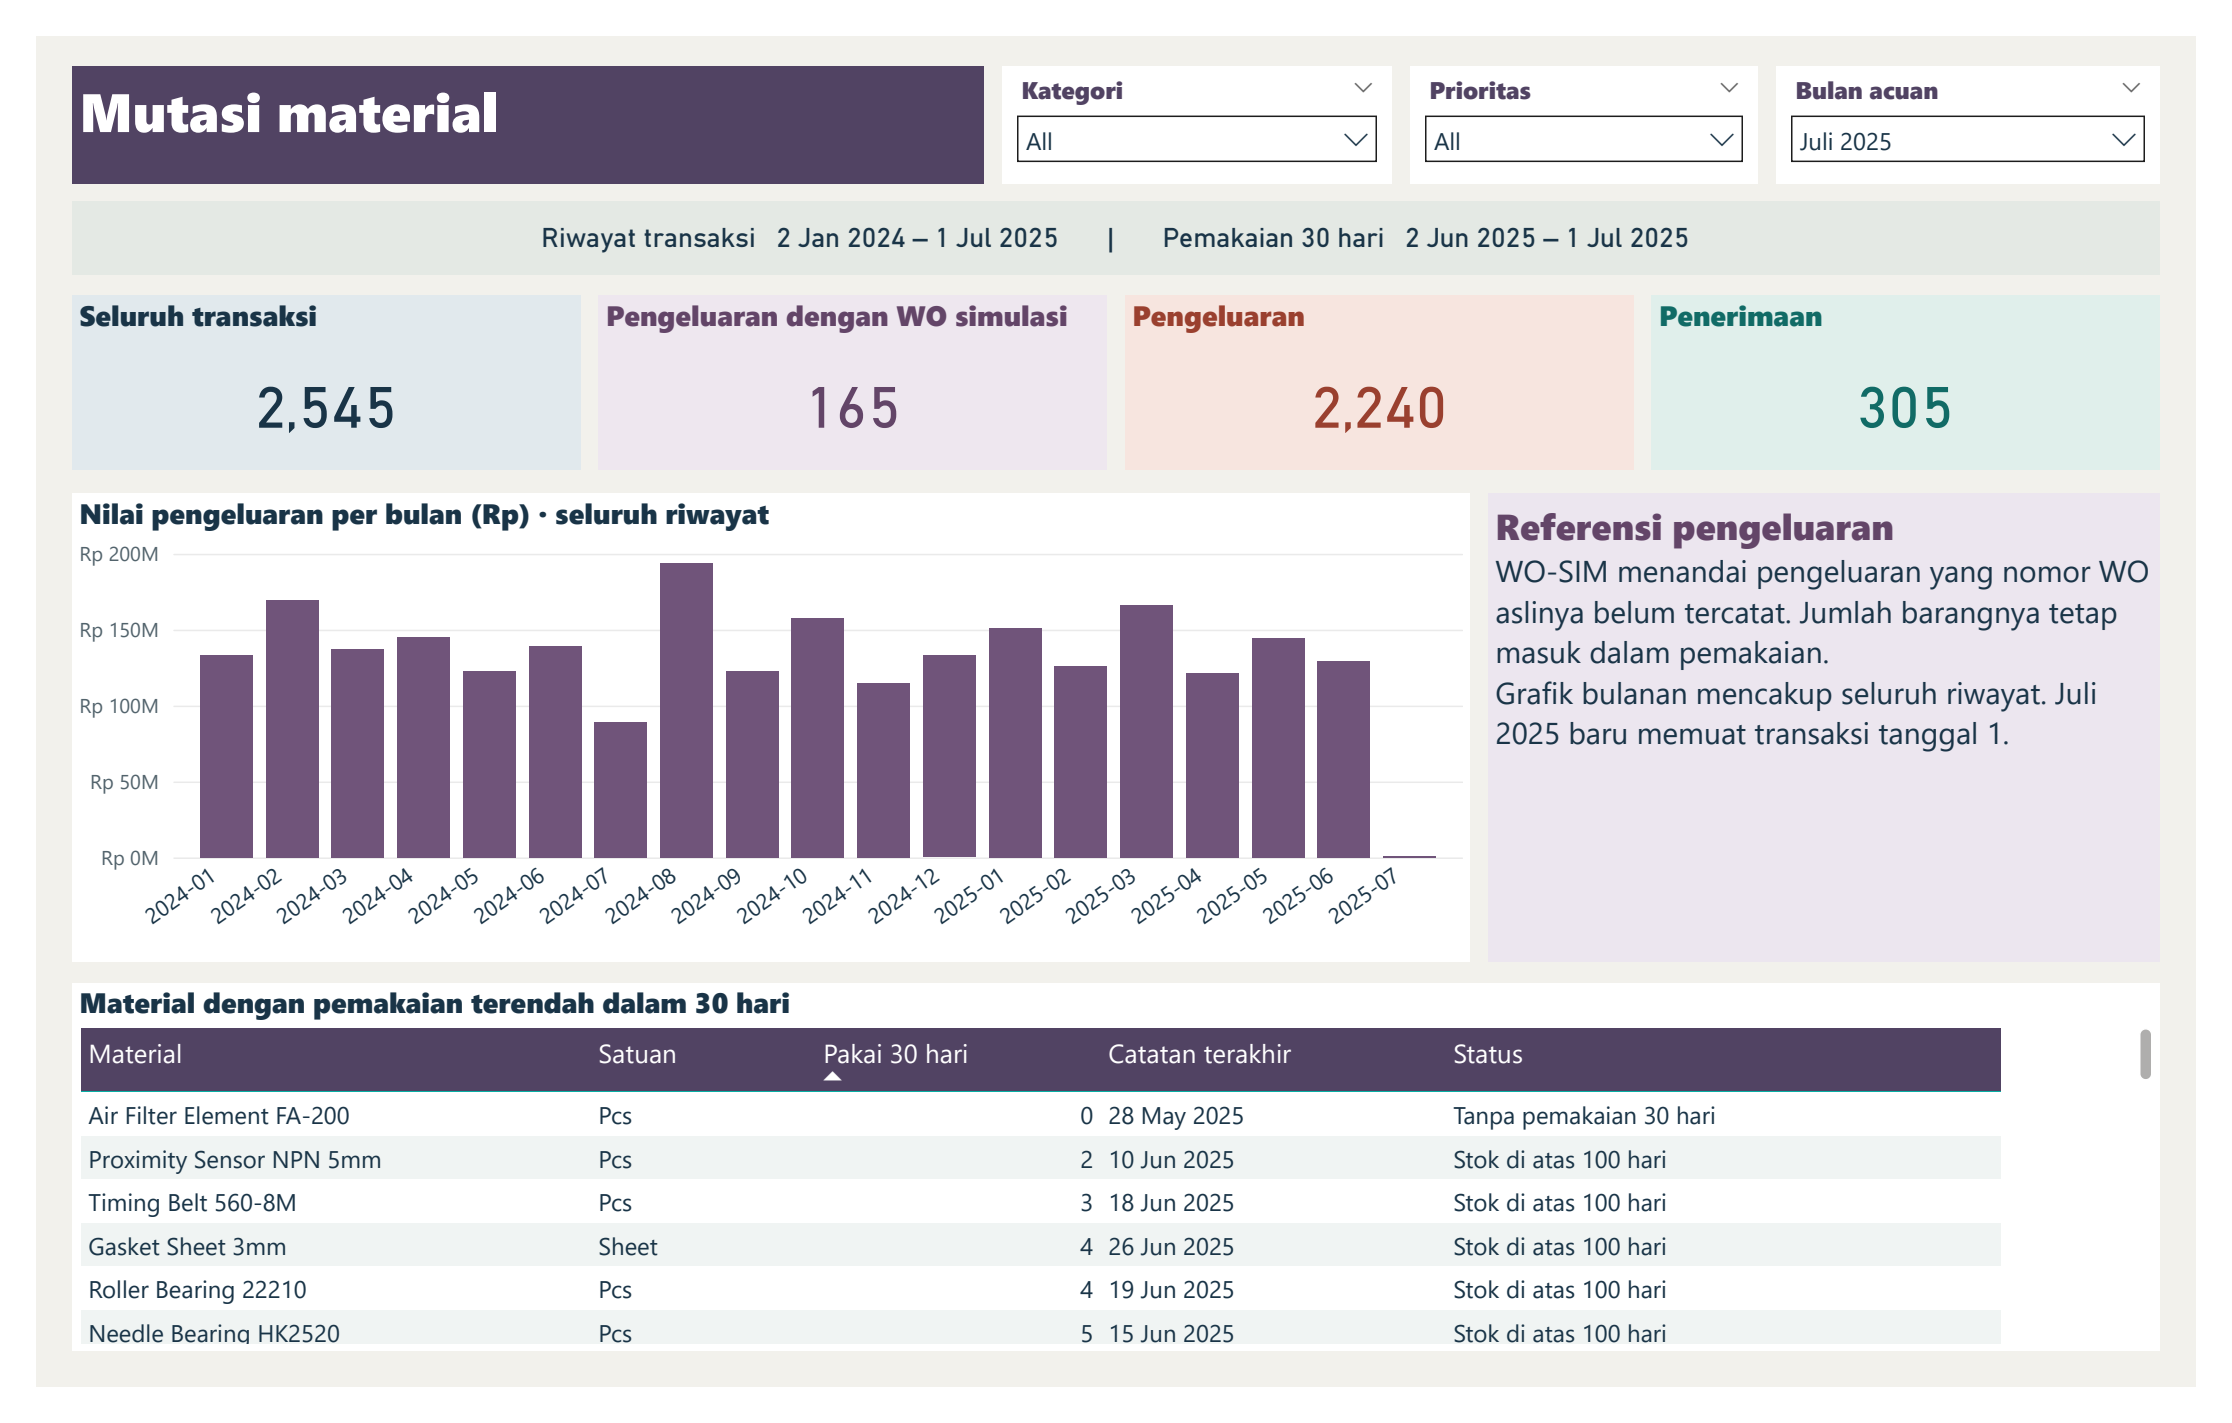

What the dashboard file says about the page in this screenshot:
{"tool":"powerbi","page":{"name":"Mutasi material","canvas":[1440,900],"ordinal":2},"visuals":[{"type":"textbox","box":[24,20,608,78],"z":15},{"type":"slicer","fields":{"Values":["Item.Category"]},"box":[644,20,260,78],"z":17},{"type":"slicer","fields":{"Values":["Item.Priority"]},"box":[916,20,232,78],"z":18},{"type":"slicer","fields":{"Values":["ReportingDate.Bulan"]},"box":[1160,20,256,78],"z":19},{"type":"card","fields":{"Values":["Item.Period Label"]},"box":[24,110,1392,49],"z":20},{"type":"card","title":"Seluruh transaksi","fields":{"Values":["Item.Transaction Rows"]},"box":[24,173,339,116],"z":33},{"type":"card","title":"Pengeluaran dengan WO simulasi","fields":{"Values":["Item.Referensi simulasi"]},"box":[375,173,339,116],"z":34},{"type":"card","title":"Pengeluaran","fields":{"Values":["Item.Issue Rows"]},"box":[726,173,339,116],"z":35},{"type":"card","title":"Penerimaan","fields":{"Values":["Item.Receipt Rows"]},"box":[1077,173,339,116],"z":36},{"type":"clusteredColumnChart","title":"Nilai pengeluaran per bulan (Rp) · seluruh riwayat","fields":{"Category":["Calendar.Month"],"Y":["Item.Issued Value"]},"box":[24,305,932,312],"z":37},{"type":"textbox","box":[968,305,448,312],"z":38},{"type":"tableEx","title":"Material dengan pemakaian terendah dalam 30 hari","fields":{"Values":["Item.ItemName","Item.Unit","Item.Issued 30D","Item.Last Transaction","Item.Stock Status"]},"box":[24,631,1392,245],"z":39}]}

Visuals, with their boxes in screenshot pixels (x1, y1, x2, y2), scaled from the page's 1440x900 canvas onto the 2232x1423 screenshot:
textbox: rect(37, 32, 980, 155)
slicer - Item.Category: rect(998, 32, 1401, 155)
slicer - Item.Priority: rect(1420, 32, 1779, 155)
slicer - ReportingDate.Bulan: rect(1798, 32, 2195, 155)
card - Item.Period Label: rect(37, 174, 2195, 251)
"Seluruh transaksi" card: rect(37, 274, 563, 457)
"Pengeluaran dengan WO simulasi" card: rect(581, 274, 1107, 457)
"Pengeluaran" card: rect(1125, 274, 1651, 457)
"Penerimaan" card: rect(1669, 274, 2195, 457)
"Nilai pengeluaran per bulan (Rp) · seluruh riwayat" clusteredColumnChart: rect(37, 482, 1482, 976)
textbox: rect(1500, 482, 2195, 976)
"Material dengan pemakaian terendah dalam 30 hari" tableEx: rect(37, 998, 2195, 1385)
